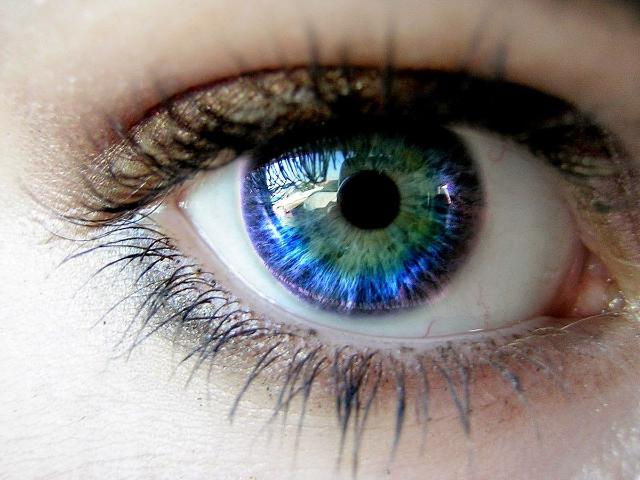eye: (242, 82, 490, 326)
